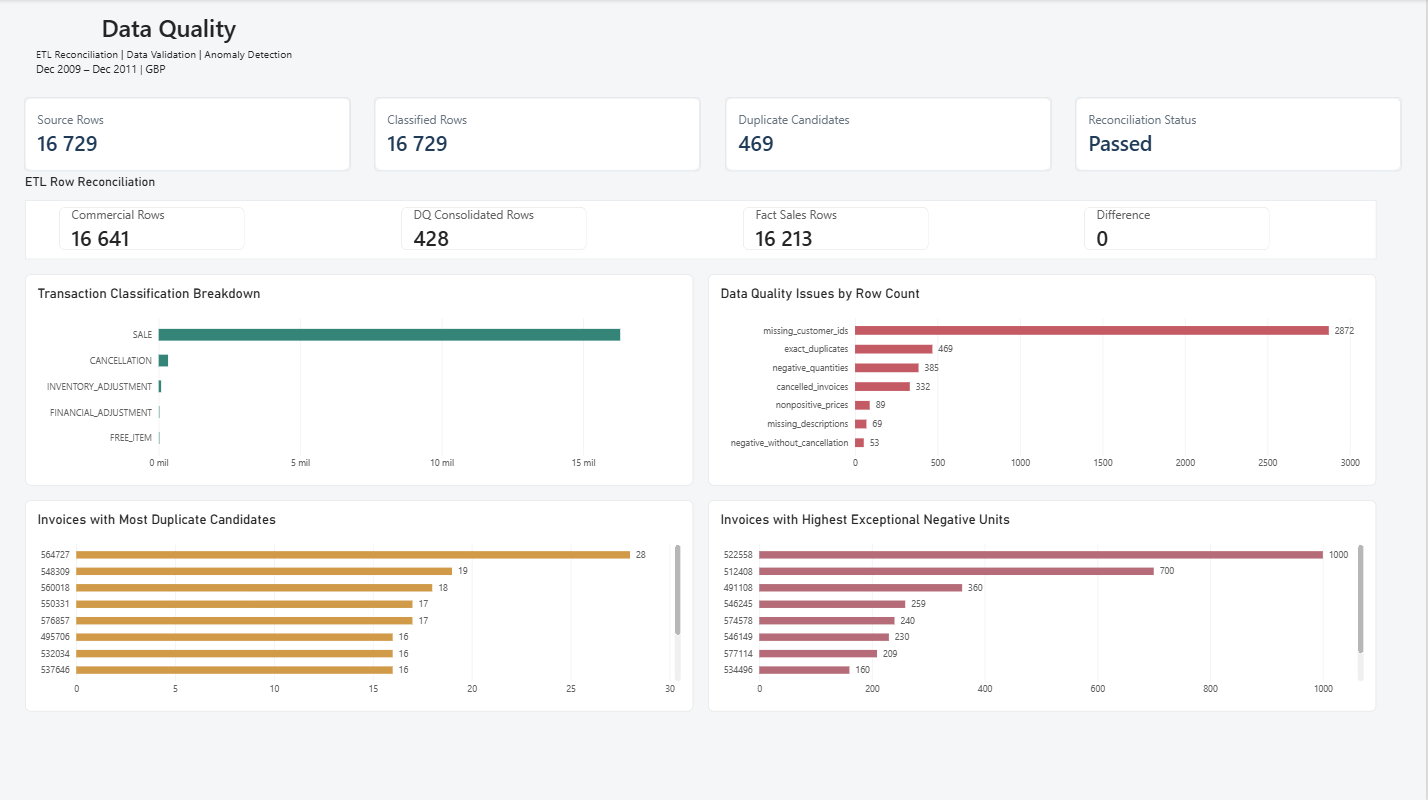

The dashboard page shown, as its layout file describes it:
{"tool":"powerbi","page":{"name":"Data Quality","canvas":[1920,1080],"ordinal":2},"visuals":[{"type":"textbox","box":[128,16,224,48],"z":0},{"type":"textbox","box":[48,64,384,48],"z":1000},{"type":"cardVisual","fields":{"Data":["_Measures.DQ Source Rows Display"]},"box":[32,132,440,100],"z":2000},{"type":"cardVisual","fields":{"Data":["_Measures.DQ Classified Rows Display"]},"box":[504,132,440,100],"z":3000},{"type":"cardVisual","fields":{"Data":["_Measures.DQ Duplicate Candidates"]},"box":[976,132,440,100],"z":4000},{"type":"cardVisual","fields":{"Data":["_Measures.DQ Reconciliation Status"]},"box":[1448,132,440,100],"z":5000},{"type":"clusteredBarChart","title":"Transaction Classification Breakdown","fields":{"Category":["ETL Classification Counts.Transaction Type"],"Y":["Sum(ETL Classification Counts.Row Count)"]},"box":[34,370,900,285],"z":6000},{"type":"clusteredBarChart","title":"Data Quality Issues by Row Count","fields":{"Category":["ETL Quality Issues.issue"],"Y":["Sum(ETL Quality Issues.row_count)"]},"box":[954,370,900,285],"z":7000},{"type":"clusteredBarChart","title":"Invoices with Most Duplicate Candidates","fields":{"Category":["ETL Duplicate Candidates.Invoice"],"Y":["_Measures.DQ Duplicate Rows by Invoice"]},"box":[34,675,900,285],"z":8000},{"type":"clusteredBarChart","title":"Invoices with Highest Exceptional Negative Units","fields":{"Category":["ETL Cancellation Exceptions.Invoice"],"Y":["_Measures.DQ Exceptional Negative Units"]},"box":[954,675,900,285],"z":9000},{"type":"shape","title":"ETL Row Reconciliation","box":[34,235,1820,115],"z":10000},{"type":"cardVisual","fields":{"Data":["_Measures.DQ Commercial Rows Display"]},"box":[80,280,250,58],"z":11000},{"type":"cardVisual","fields":{"Data":["_Measures.DQ Fact Sales Rows Display"]},"box":[1000,280,250,58],"z":12000},{"type":"cardVisual","fields":{"Data":["_Measures.DQ Consolidated Rows"]},"box":[540,280,250,58],"z":13000},{"type":"cardVisual","fields":{"Data":["_Measures.DQ Reconciliation Difference"]},"box":[1460,280,250,58],"z":14000}]}

Visuals, with their boxes in screenshot pixels (x1, y1, x2, y2), scaled from the page's 1920x1080 canvas onto the 1428x800 screenshot:
textbox: locate(95, 12, 262, 47)
textbox: locate(36, 47, 321, 83)
cardVisual - _Measures.DQ Source Rows Display: locate(24, 98, 351, 172)
cardVisual - _Measures.DQ Classified Rows Display: locate(375, 98, 702, 172)
cardVisual - _Measures.DQ Duplicate Candidates: locate(726, 98, 1053, 172)
cardVisual - _Measures.DQ Reconciliation Status: locate(1077, 98, 1404, 172)
"Transaction Classification Breakdown" clusteredBarChart: locate(25, 274, 695, 485)
"Data Quality Issues by Row Count" clusteredBarChart: locate(710, 274, 1379, 485)
"Invoices with Most Duplicate Candidates" clusteredBarChart: locate(25, 500, 695, 711)
"Invoices with Highest Exceptional Negative Units" clusteredBarChart: locate(710, 500, 1379, 711)
"ETL Row Reconciliation" shape: locate(25, 174, 1379, 259)
cardVisual - _Measures.DQ Commercial Rows Display: locate(60, 207, 245, 250)
cardVisual - _Measures.DQ Fact Sales Rows Display: locate(744, 207, 930, 250)
cardVisual - _Measures.DQ Consolidated Rows: locate(402, 207, 588, 250)
cardVisual - _Measures.DQ Reconciliation Difference: locate(1086, 207, 1272, 250)
